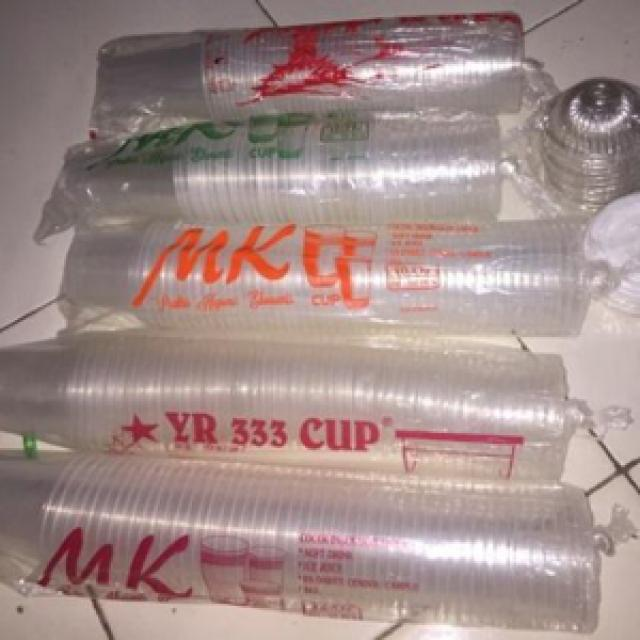plastic cup: (6, 452, 606, 640), (2, 339, 587, 482), (51, 222, 610, 341), (51, 115, 518, 239), (92, 15, 535, 136)
